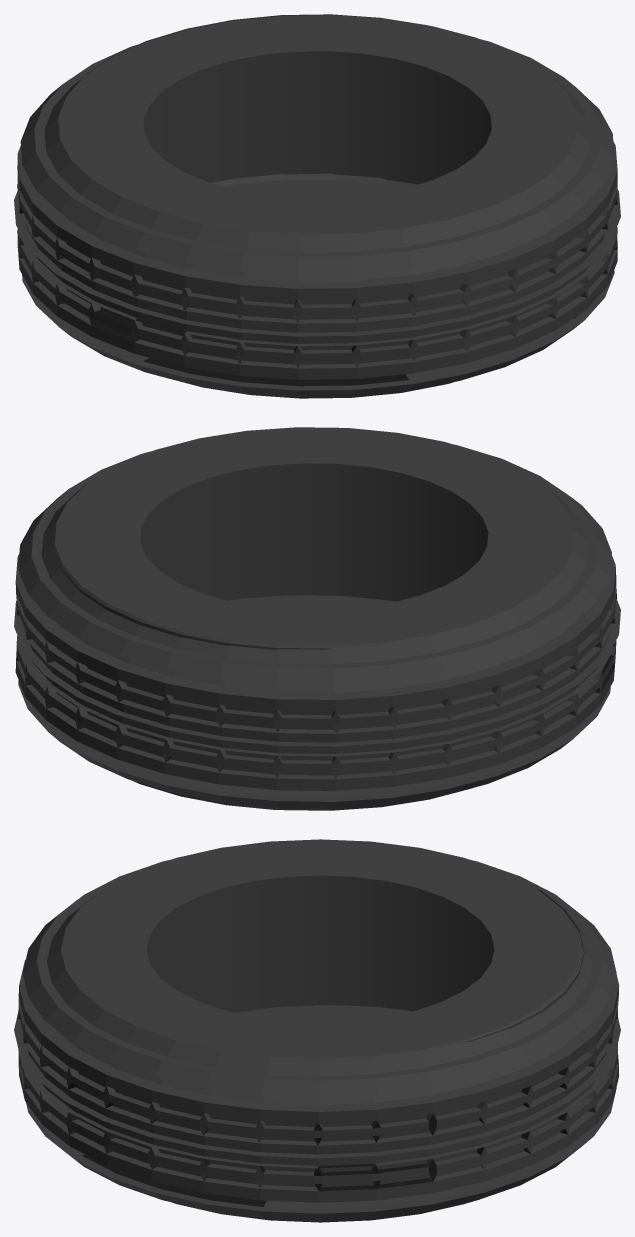
File: Tire.glb
3 views of the same model, one above another, from view 1: azimuth 30°, elevation 25°; view 2: azimuth 150°, elevation 25°; view 3: azimuth 270°, elevation 25° (orthographic).
Visible parts, largest first — view 1: Circle.002, Circle, Circle.001, Circle.003; view 2: Circle.002, Circle, Circle.001, Circle.003; view 3: Circle.002, Circle, Circle.001, Circle.003.
Boxes of the visible parts, x1,y1,x2,y2 form: Circle.002: [17, 15, 617, 332]; Circle: [14, 173, 620, 398]; Circle.001: [143, 51, 491, 184]; Circle.003: [69, 14, 491, 175]; Circle.002: [15, 427, 616, 742]; Circle: [14, 595, 620, 810]; Circle.001: [132, 463, 488, 810]; Circle.003: [53, 463, 487, 649]; Circle.002: [17, 839, 619, 1154]; Circle: [14, 1005, 620, 1222]; Circle.001: [146, 875, 494, 1211]; Circle.003: [150, 875, 584, 1050].
Bounding box in the file's own units: 2.02 × 0.6023 × 2.02.
Materials: 2 (1 with a texture image).
